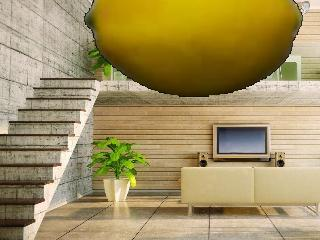lemon: (85, 0, 303, 97)
